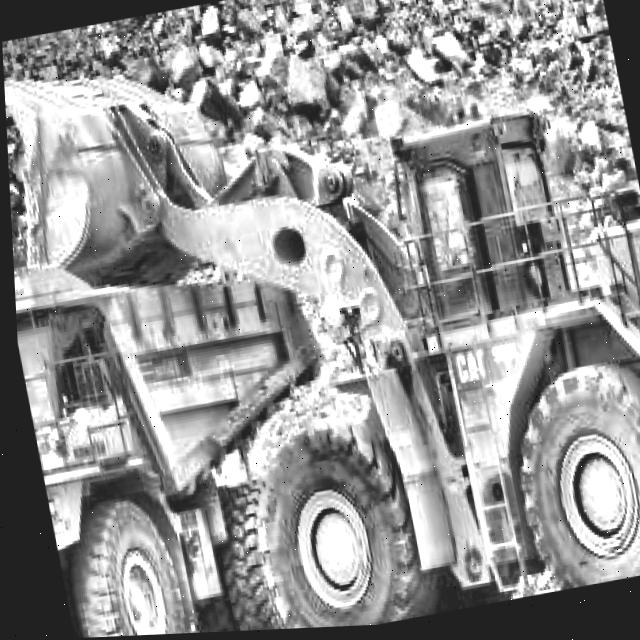buldozerpayloadergrader: (0, 0, 640, 640)
dump_truck: (8, 193, 362, 640)
